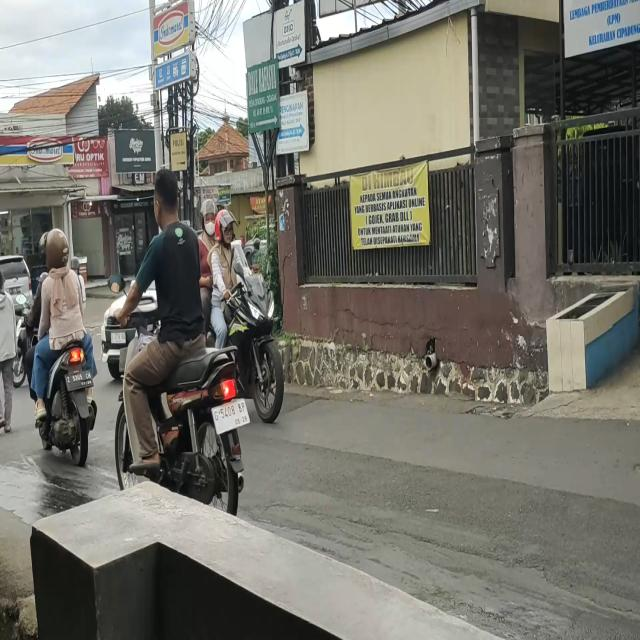helmet: (46, 227, 70, 270), (212, 212, 236, 249), (199, 200, 218, 238)
no-helmet: (152, 168, 185, 228)
